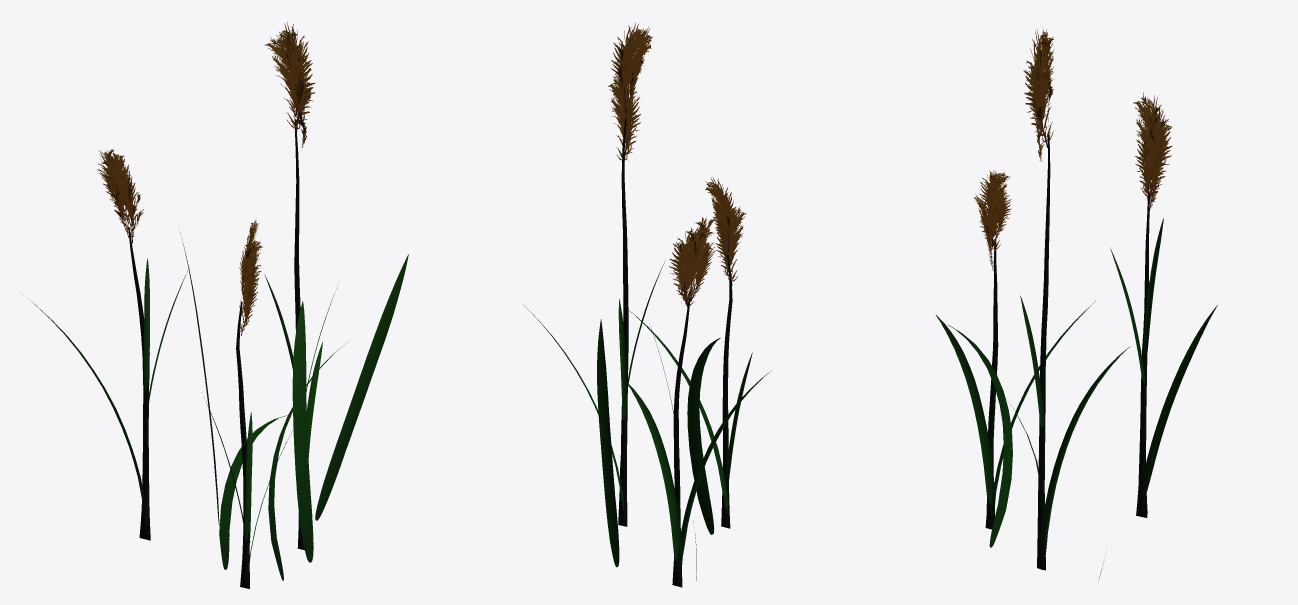
3 renders of one model, left to right at view 1: azimuth 30°, elevation 25°; view 2: azimuth 150°, elevation 25°; view 3: azimuth 270°, elevation 25°, orthographic. The views are drawn at different scales.
Parts seen in each view (by area): view 1: SM_UmbS_Bullrush_01_LOD0; view 2: SM_UmbS_Bullrush_01_LOD0; view 3: SM_UmbS_Bullrush_01_LOD0.
Part boxes in pixels (x1,y1,x2,y2): SM_UmbS_Bullrush_01_LOD0: (23, 22, 408, 588); SM_UmbS_Bullrush_01_LOD0: (524, 22, 770, 587); SM_UmbS_Bullrush_01_LOD0: (935, 28, 1217, 580).
Bounding box in the file's own units: 0.9278 × 1.29 × 0.9746.
Materials: 1 (1 with a texture image).
